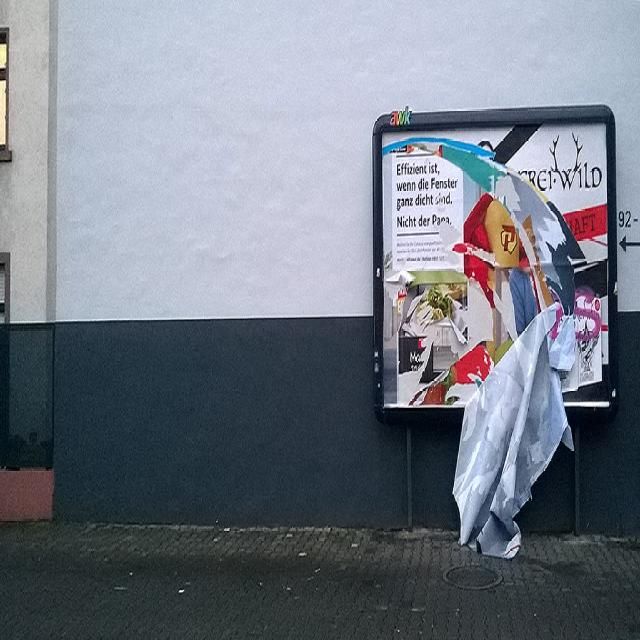Werbetafel frei: (366, 91, 628, 425)
